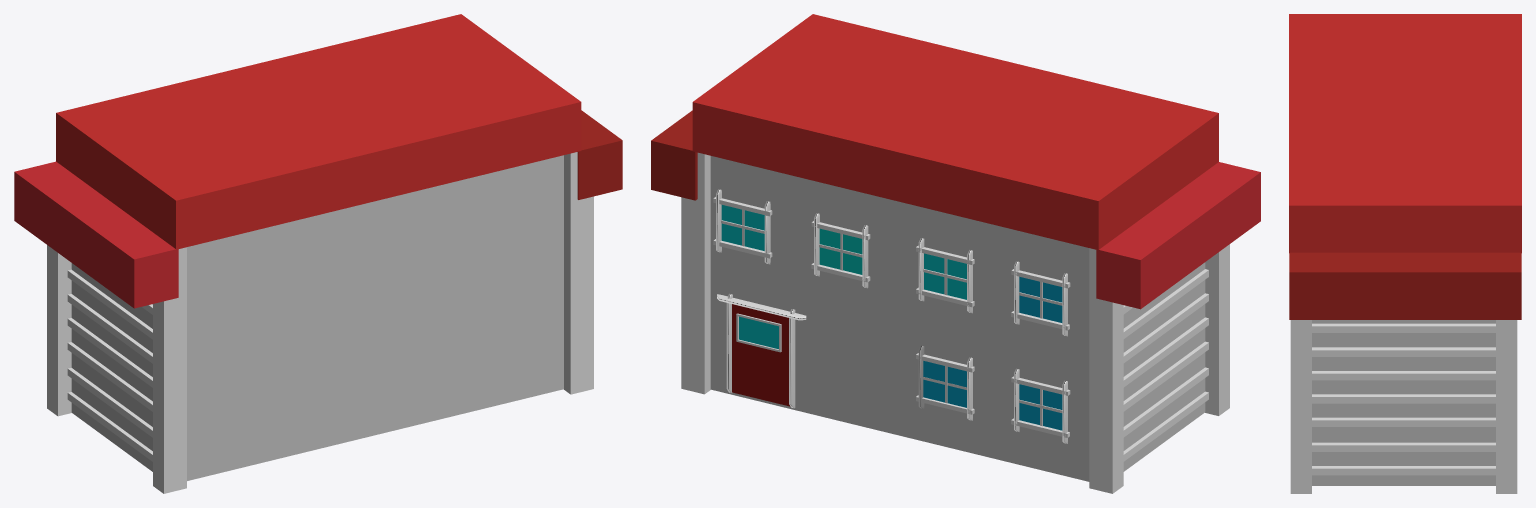
File: dom3.fbx
3 views of the same model, side by side, from view 1: azimuth 30°, elevation 25°; view 2: azimuth 150°, elevation 25°; view 3: azimuth 270°, elevation 25° (orthographic). The views are drawn at different scales.
Parts seen in each view (by area): view 1: Cube, Cube_018, Cube_017, Cube_047, Cube_046, Cube_045, Cube_016, Cube_061, Cube_062, Cube_063, Cube_058, Cube_059 (+1 smaller); view 2: Cube_018, Cube, Cube_017, Cube_045, Cube_044, Grid, Cube_047, Cube_016, Grid_001, Grid_005, Grid_006, Grid_003 (+10 smaller); view 3: Cube_018, Cube, Cube_016, Cube_044, Cube_046, Cube_049, Cube_050, Cube_051, Cube_052, Cube_053, Cube_054, Cube_055.
Boxes of the visible parts, bbox=[...] form: Cube: bbox=[71, 155, 563, 480]; Cube_018: bbox=[56, 14, 581, 249]; Cube_017: bbox=[14, 161, 178, 308]; Cube_047: bbox=[153, 247, 186, 493]; Cube_046: bbox=[564, 152, 593, 394]; Cube_045: bbox=[47, 245, 71, 416]; Cube_016: bbox=[577, 110, 622, 199]; Cube_061: bbox=[67, 342, 152, 411]; Cube_062: bbox=[67, 367, 152, 437]; Cube_063: bbox=[67, 392, 152, 461]; Cube_058: bbox=[67, 269, 152, 339]; Cube_059: bbox=[67, 294, 152, 363]; Cube_018: bbox=[692, 14, 1218, 250]; Cube: bbox=[710, 156, 1205, 481]; Cube_017: bbox=[1096, 162, 1260, 309]; Cube_045: bbox=[1089, 248, 1123, 493]; Cube_044: bbox=[681, 152, 710, 394]; Grid: bbox=[732, 304, 790, 406]; Cube_047: bbox=[1205, 244, 1229, 415]; Cube_016: bbox=[651, 110, 697, 200]; Grid_001: bbox=[923, 361, 966, 407]; Grid_005: bbox=[819, 228, 862, 274]; Grid_006: bbox=[721, 205, 764, 250]; Grid_003: bbox=[1019, 276, 1062, 322]; Cube_018: bbox=[1289, 14, 1521, 252]; Cube: bbox=[1312, 320, 1495, 485]; Cube_016: bbox=[1289, 252, 1521, 319]; Cube_044: bbox=[1496, 320, 1517, 493]; Cube_046: bbox=[1290, 320, 1311, 493]; Cube_049: bbox=[1312, 323, 1495, 332]; Cube_050: bbox=[1312, 347, 1495, 356]; Cube_051: bbox=[1312, 371, 1495, 380]; Cube_052: bbox=[1312, 394, 1495, 403]; Cube_053: bbox=[1312, 417, 1495, 426]; Cube_054: bbox=[1312, 442, 1495, 451]; Cube_055: bbox=[1312, 466, 1495, 475].
Bounding box in the file's own units: 13835 × 7875 × 5890.
